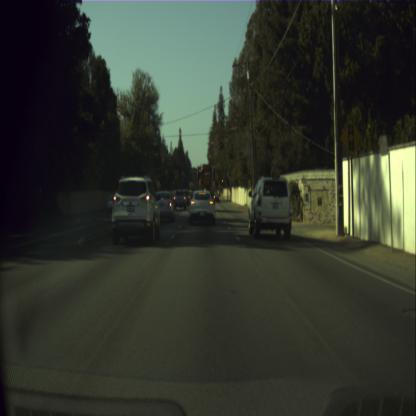Yellow: (221, 178, 223, 184)
